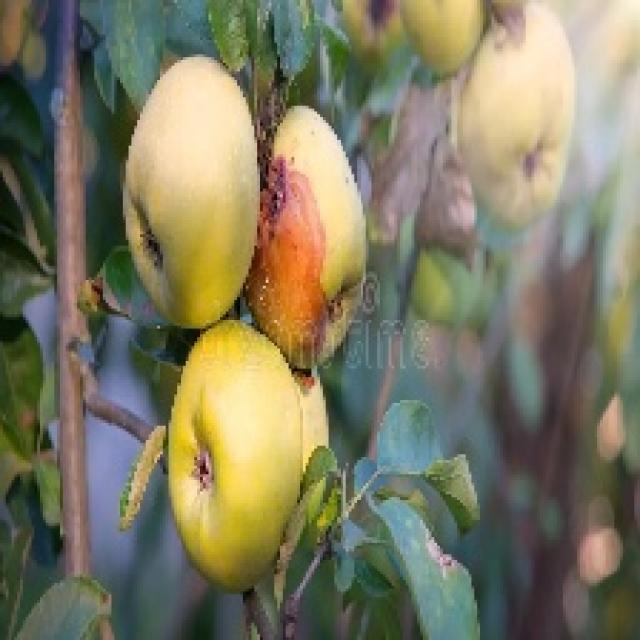rotten_apple: (256, 107, 369, 364)
